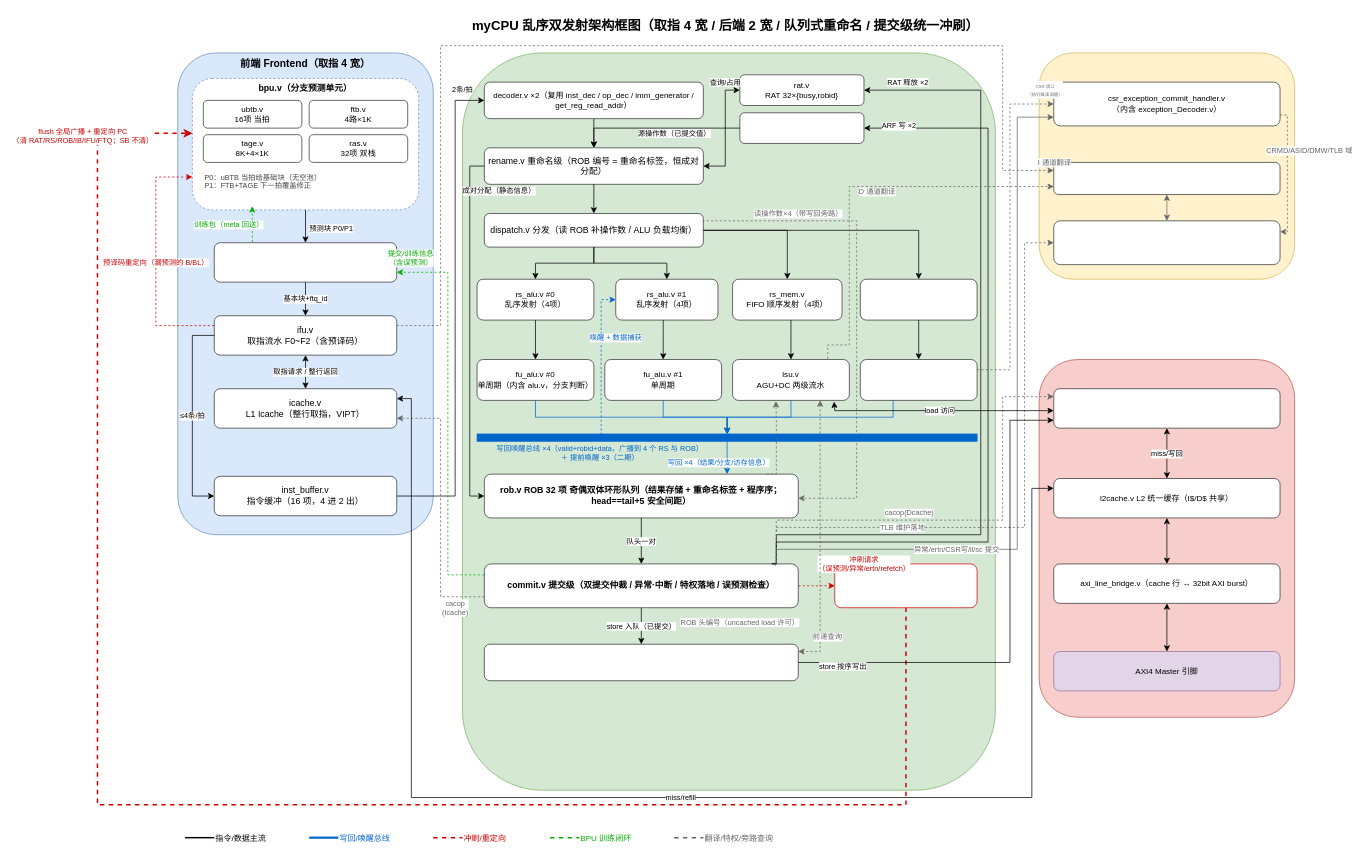
The diagram is 1365 pixels wide and 858 high, and some of its shapes have lost their labels. The box of each missing label's shape, as (x1, y1, x2, y2) in pixels:
ctrl.v 全局冲刷/重定向仲裁: (834, 563, 977, 608)
dcache.v L1 Dcache（load / store 双口，写回法）: (1053, 388, 1280, 428)
ftq.v 取指目标队列（8 基本块，三指针）: (214, 242, 397, 282)
fu_mdu.v 多周期 （mul.v / div.v / CSR读 / rdcnt）: (860, 359, 977, 400)
mmu.v（I/D 双通道翻译门面）: (1053, 162, 1280, 195)
regfile.v ARF 4读2写（仅存已提交值）: (739, 112, 864, 143)
rs_mdu.v FIFO 顺序发射（2项）: (860, 278, 977, 320)
store_buffer.v（8 项，提交后按序写出；load 前递查询口；冲刷不清空！）: (484, 643, 798, 681)
tlb_manager.v（内含 tlb.v 32项 双查询口） l1_tlb.v = 二期加速插件: (1053, 220, 1280, 265)
后端 Backend（2 宽乱序）: (462, 52, 995, 790)
存储与总线子系统: (1038, 359, 1295, 717)
特权与地址翻译: (1038, 52, 1295, 279)
